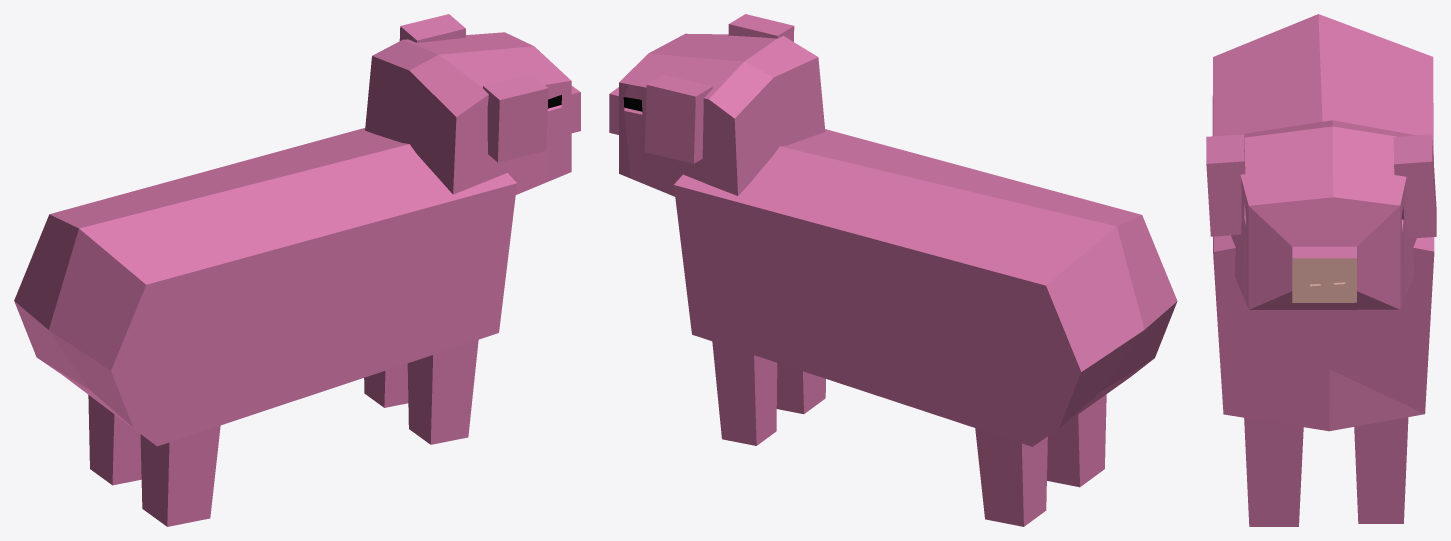
The model's file is Pig.fbx.
The picture shows the model from 3 angles, left to right: view 1: azimuth 30°, elevation 25°; view 2: azimuth 150°, elevation 25°; view 3: azimuth 270°, elevation 25°; orthographic projection. The views are drawn at different scales.
Visible parts, largest first — view 1: Pig; view 2: Pig; view 3: Pig.
Boxes of the visible parts, <box> form: Pig: <box>14,14,580,526</box>; Pig: <box>609,14,1177,526</box>; Pig: <box>1206,14,1436,526</box>.
Bounding box in the file's own units: 386 × 259 × 130.
